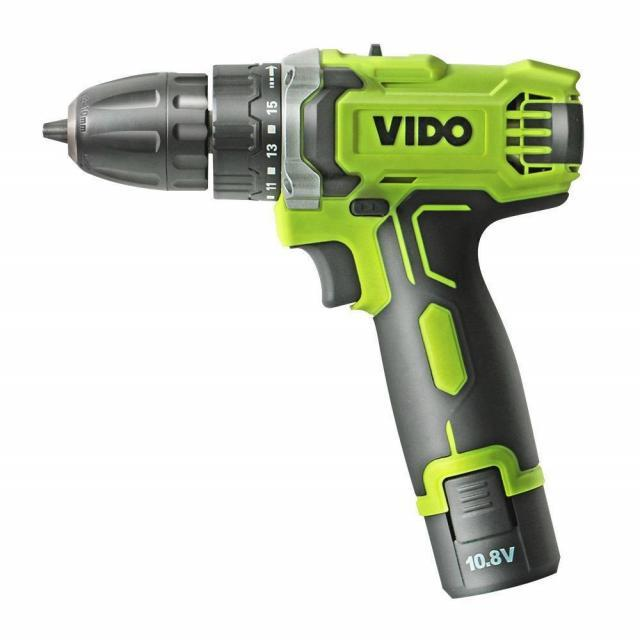drill: (41, 44, 585, 601)
